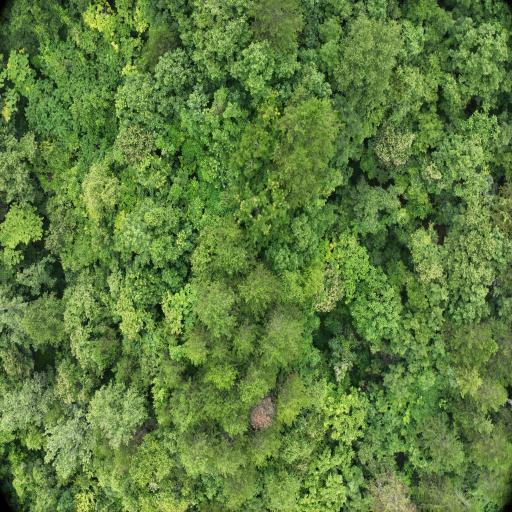sick-tree: (252, 410, 271, 423)
